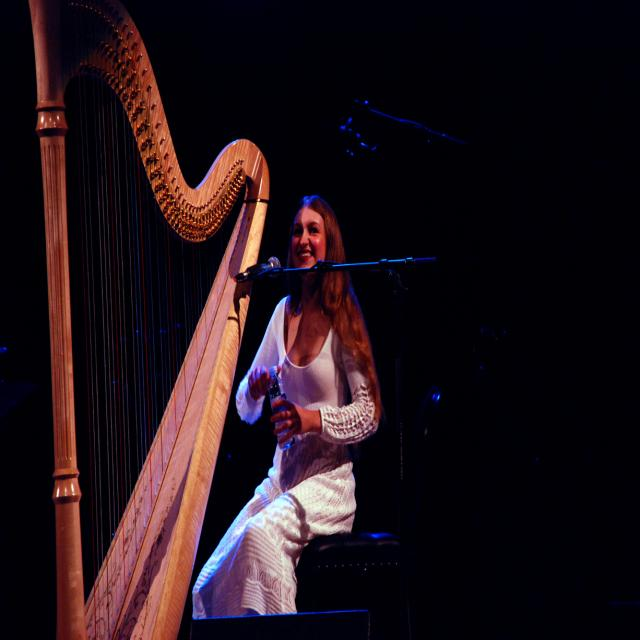harp: (29, 0, 271, 635)
